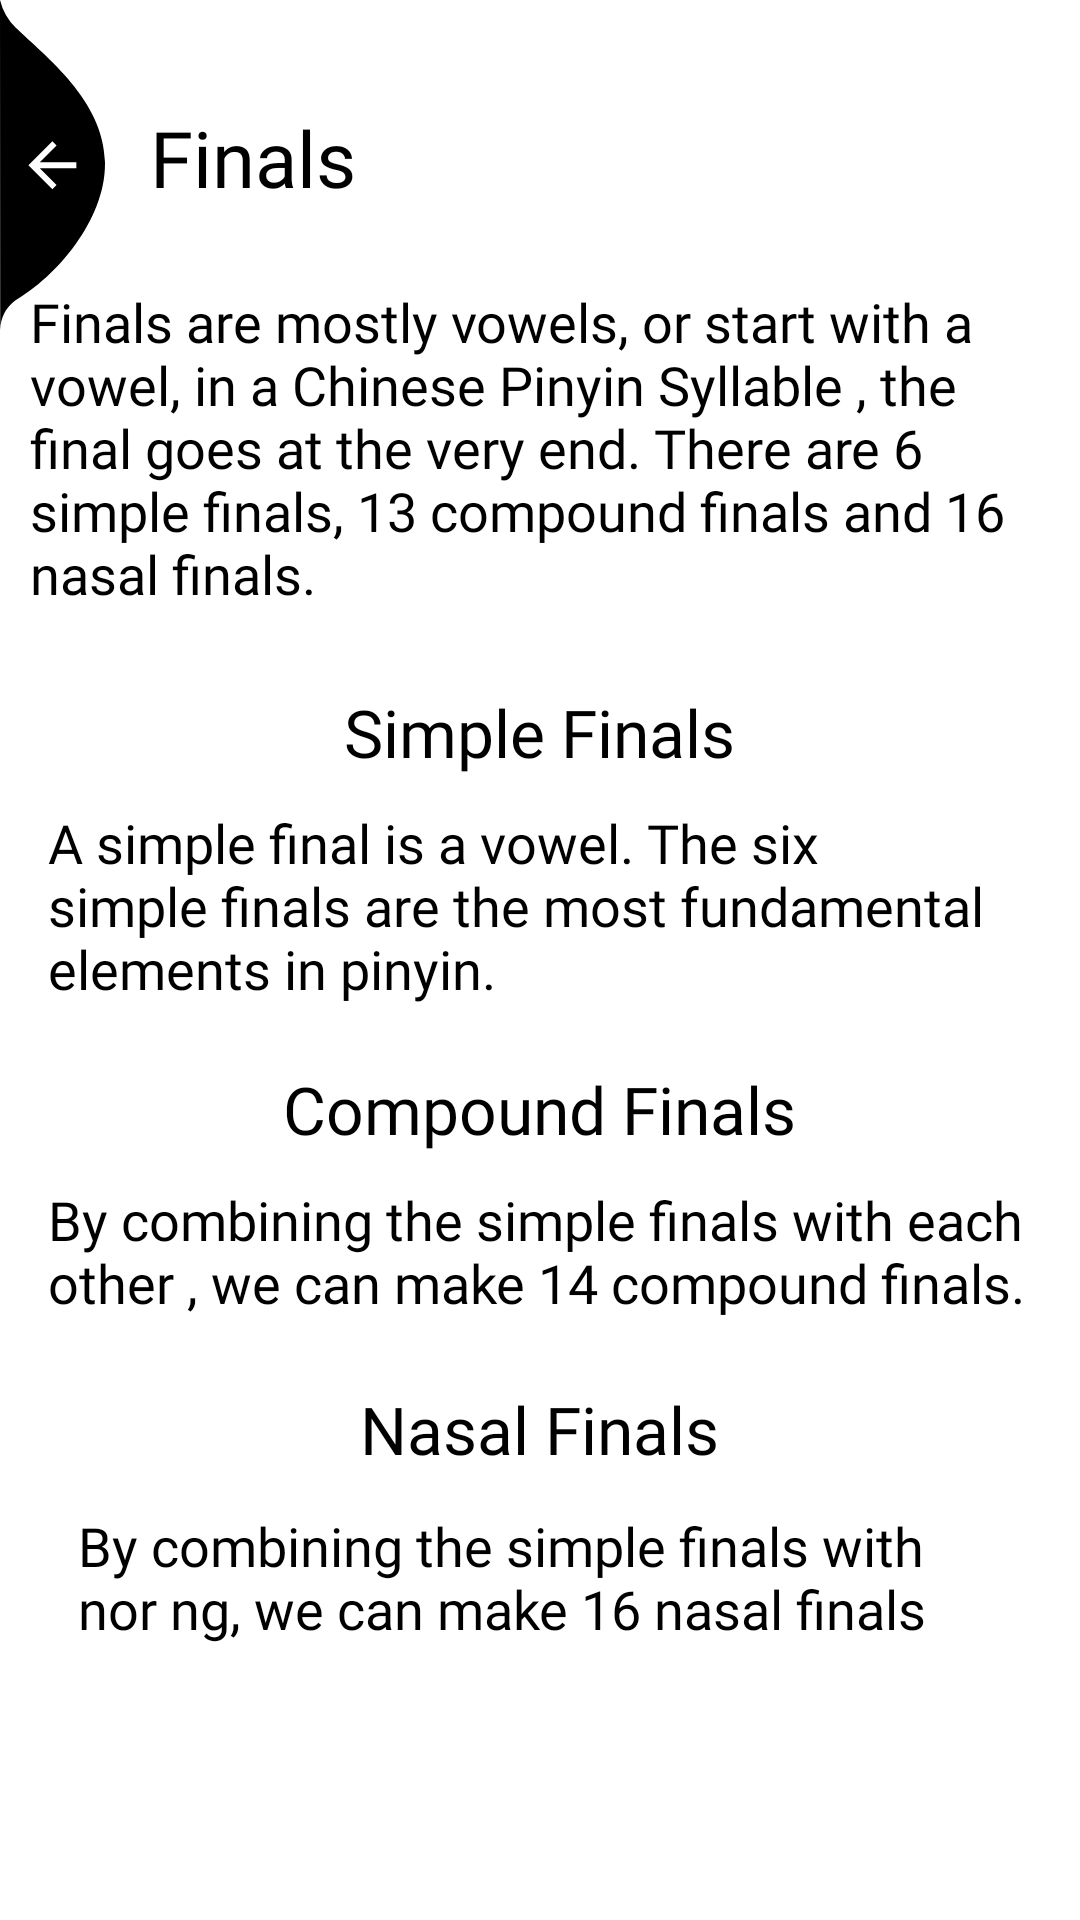

Named icons in this screenshot (1080px×1920px) and their bounding boxes, (x1, y1, x2, y2):
back: (0, 0, 105, 329)
